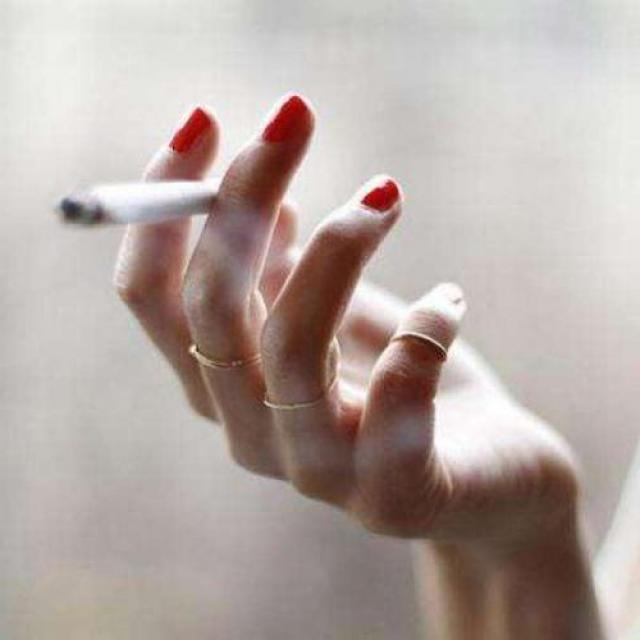smoking: (53, 147, 255, 237)
